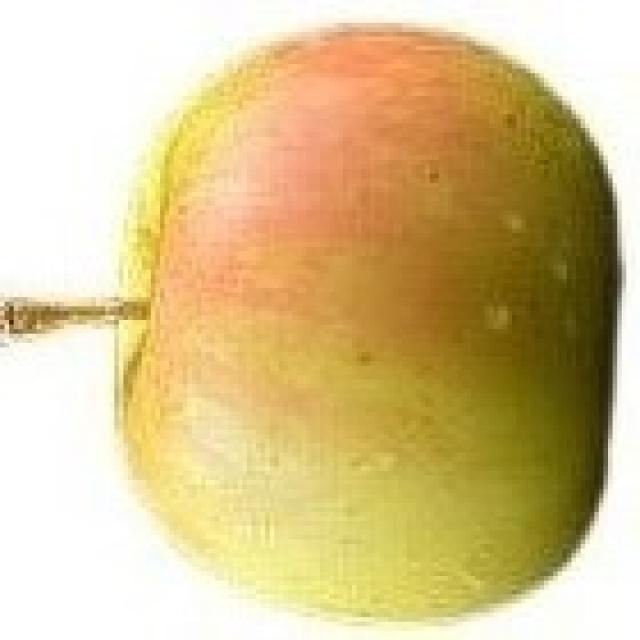75-_ripeness: (112, 22, 620, 625)
